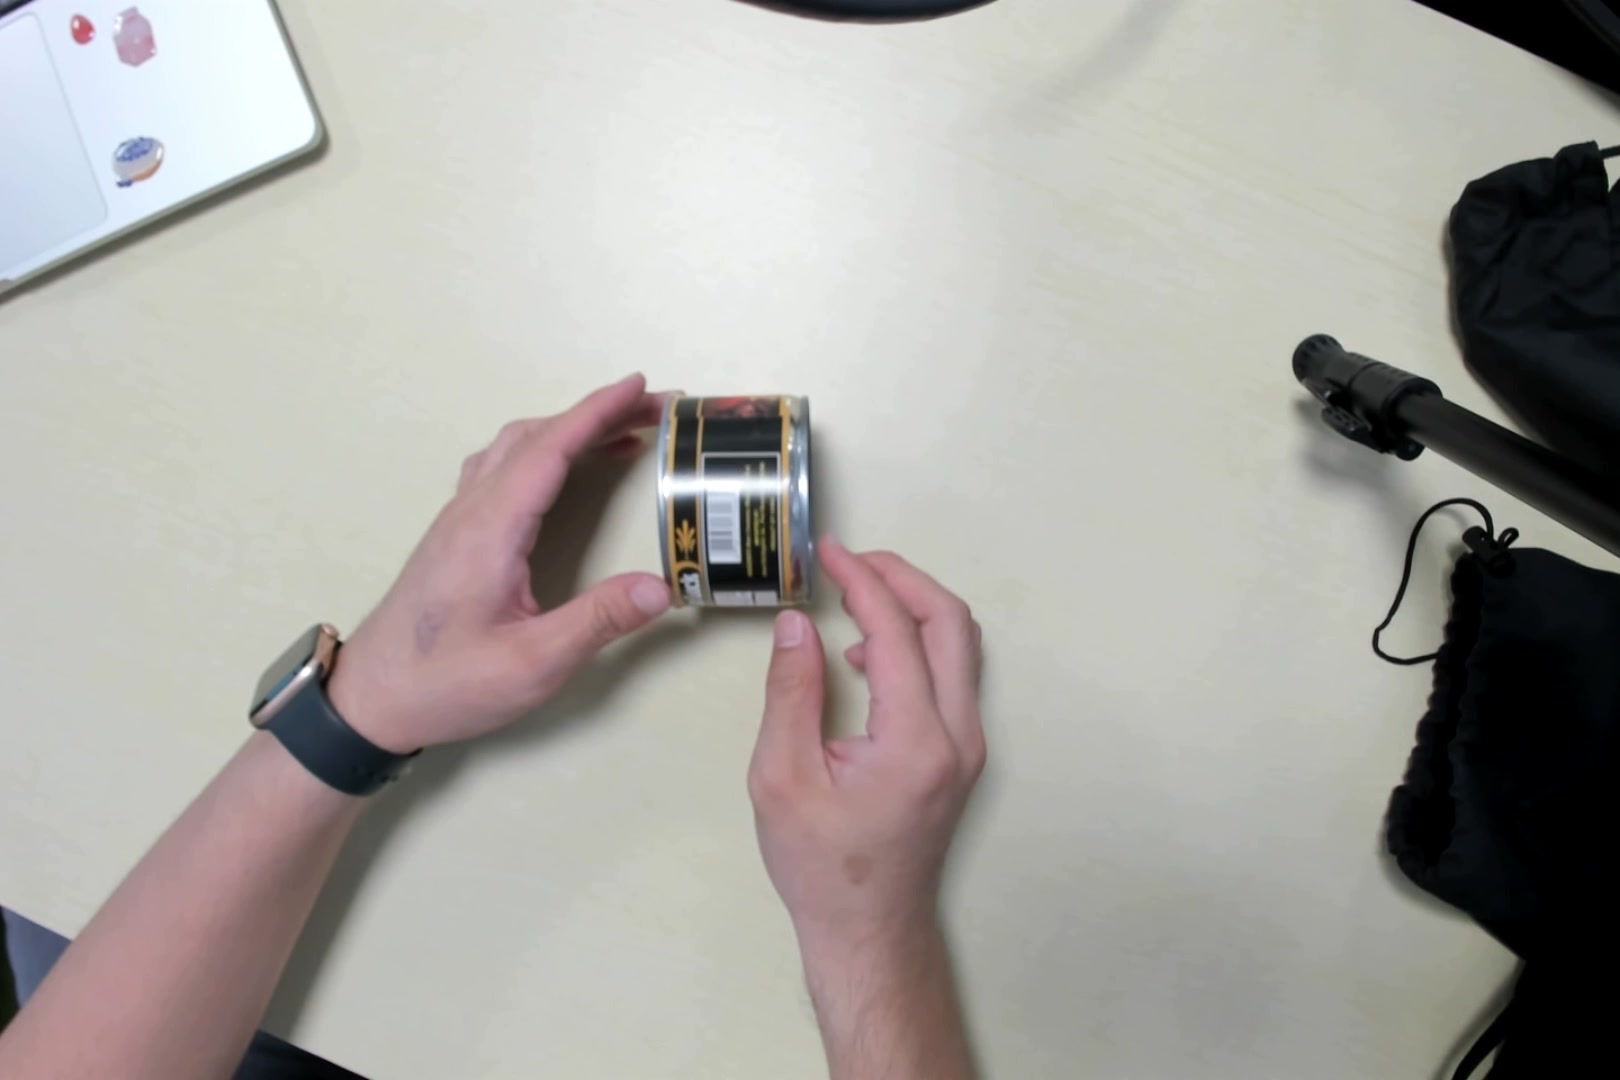CannedVegetarianFood_100-199g_Halal_NonHealthy: (656, 391, 820, 615)
